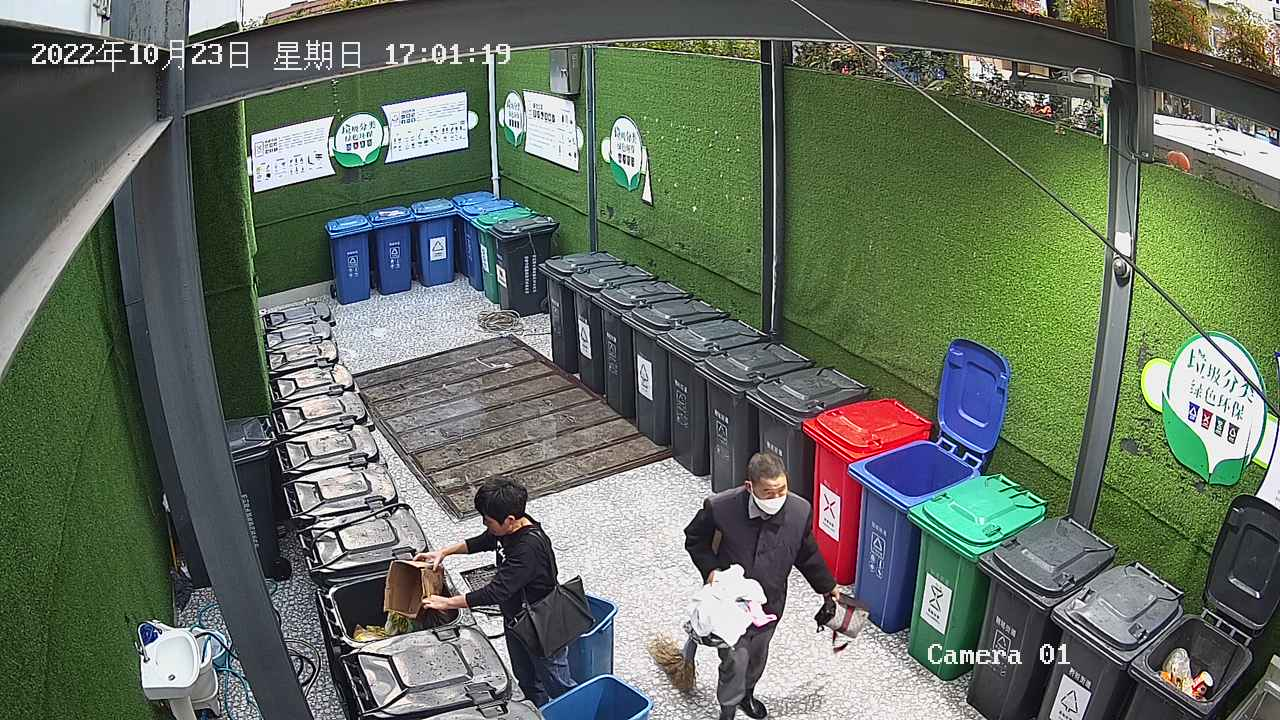person: (676, 447, 848, 720), (410, 475, 597, 713)
zhizhipin: (379, 556, 450, 627)
